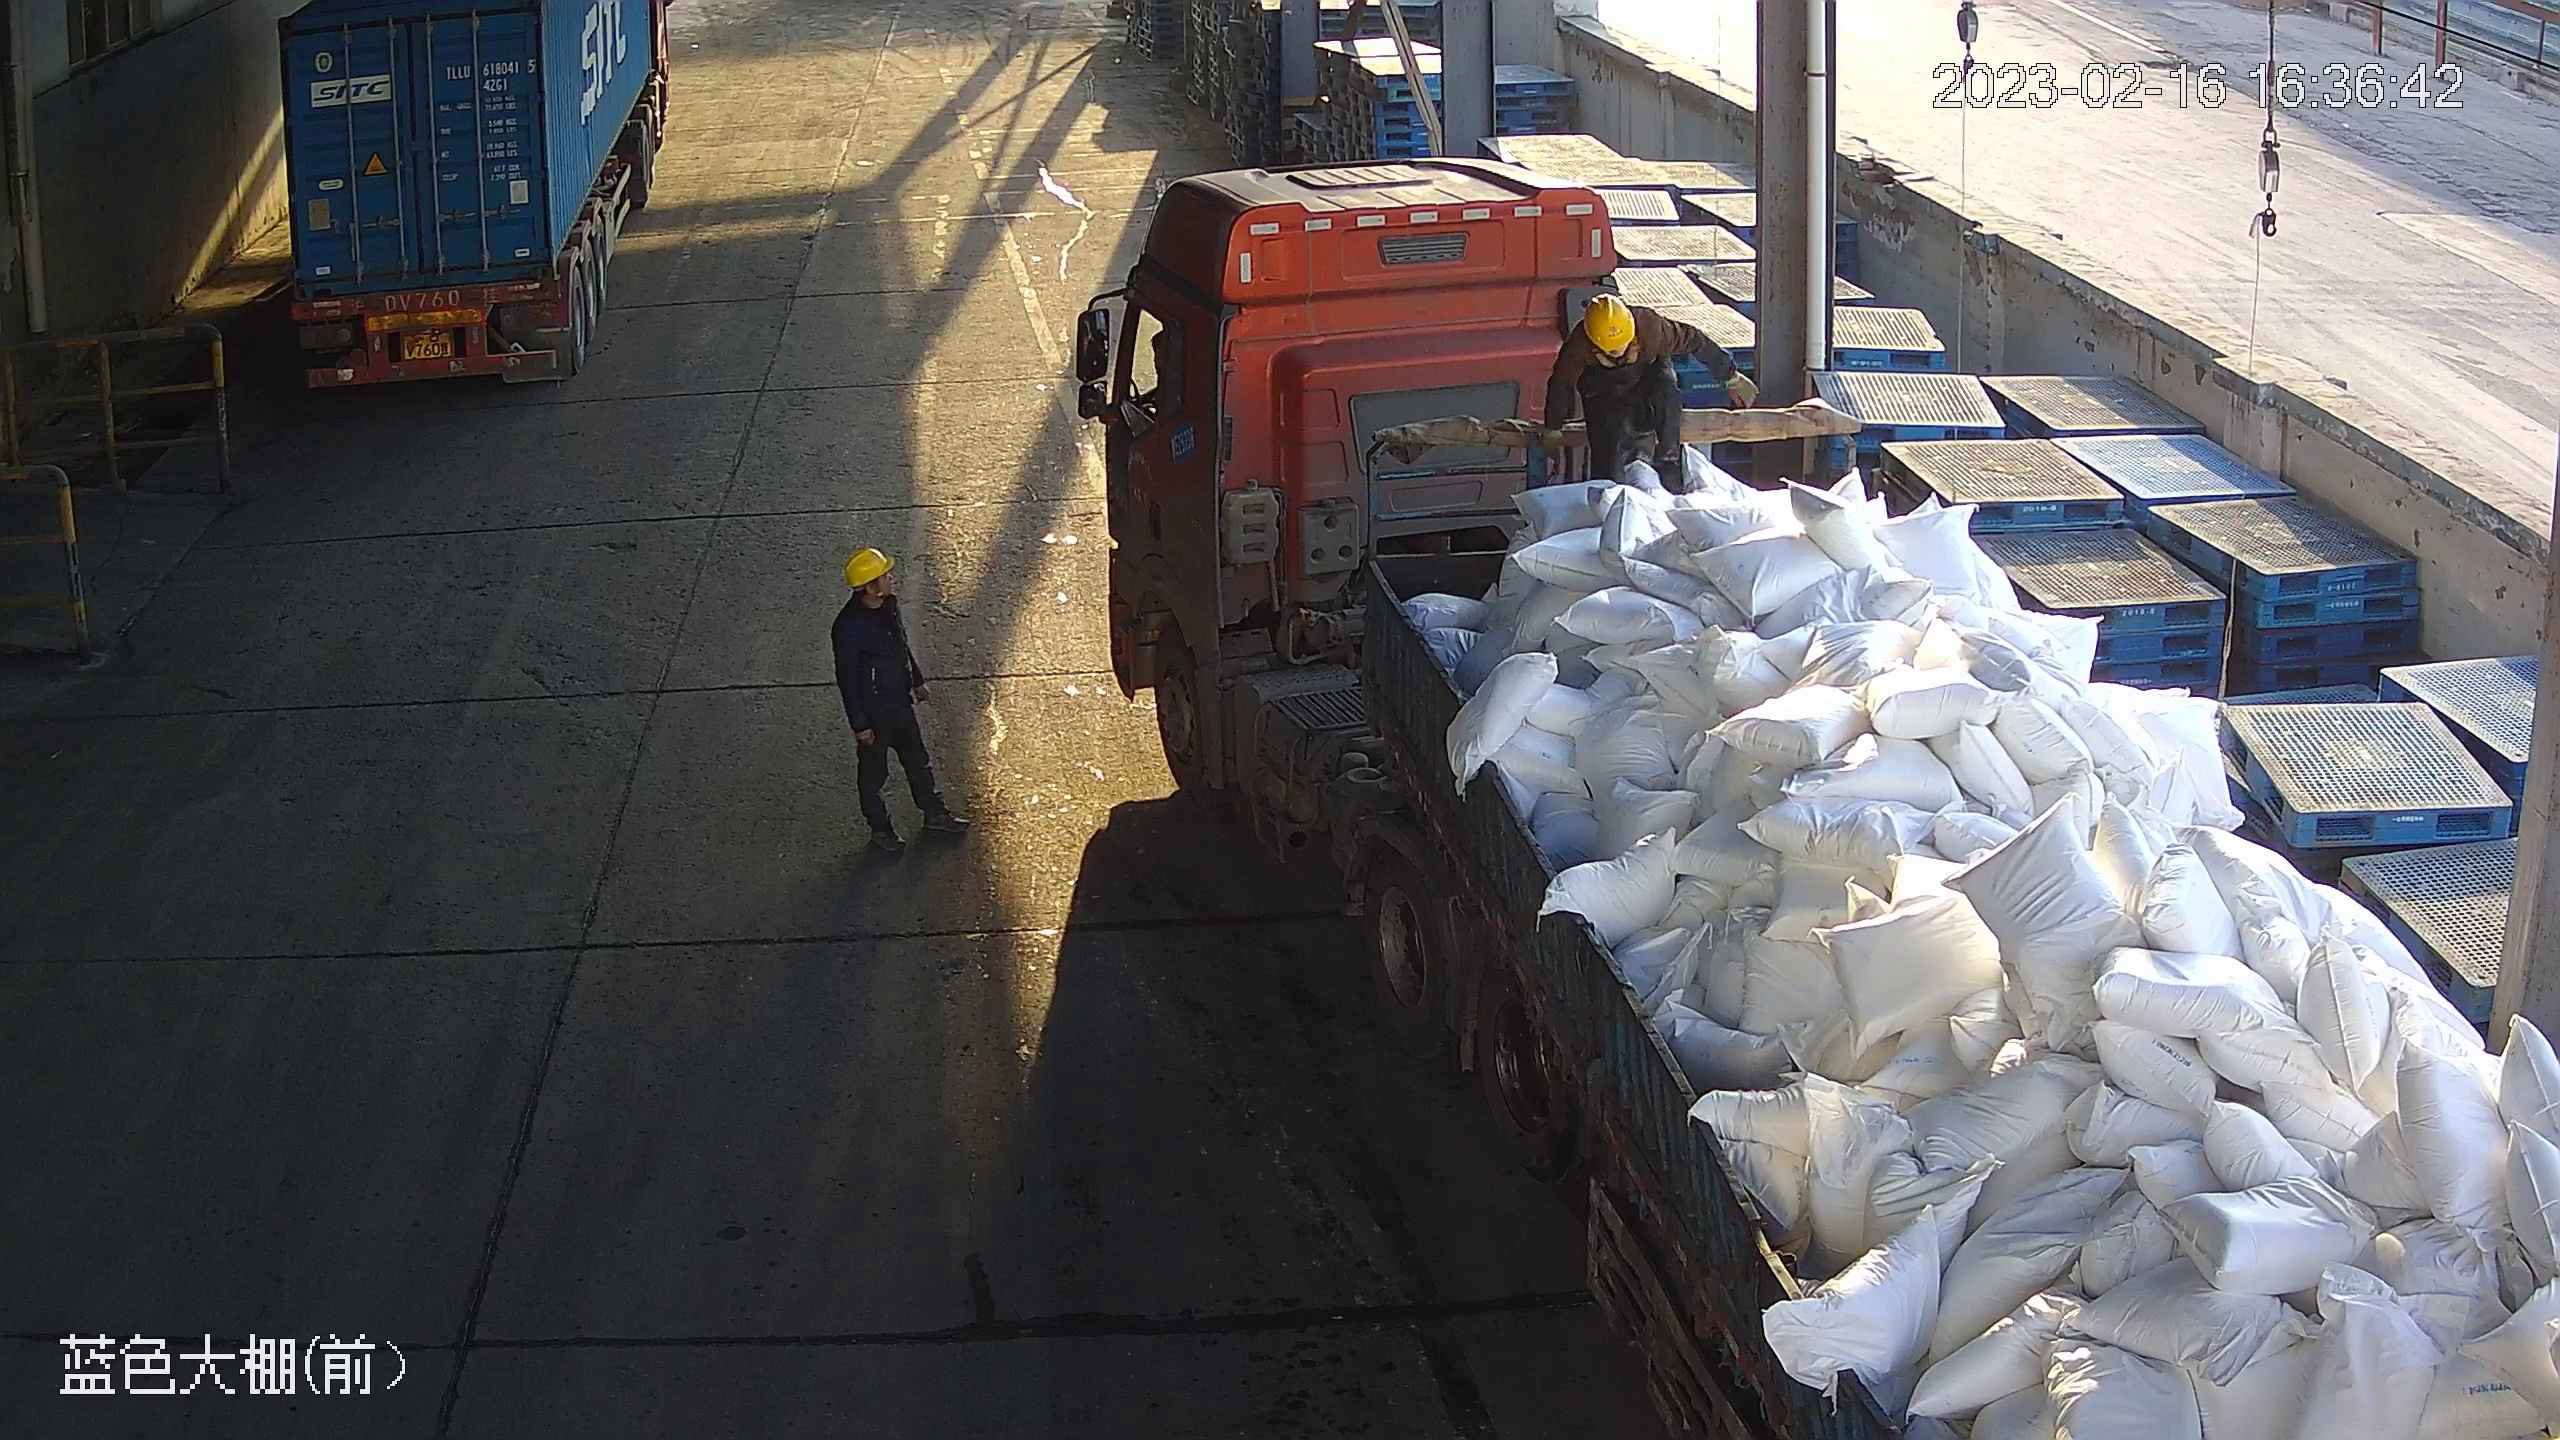belt: (1586, 338, 1650, 369)
head: (1549, 282, 1707, 384), (818, 551, 916, 662)
helmet: (1586, 290, 1642, 369), (838, 547, 890, 580)
people: (823, 549, 972, 845), (1548, 284, 1759, 482)
truck: (1075, 164, 2560, 1440), (259, 4, 683, 408)
